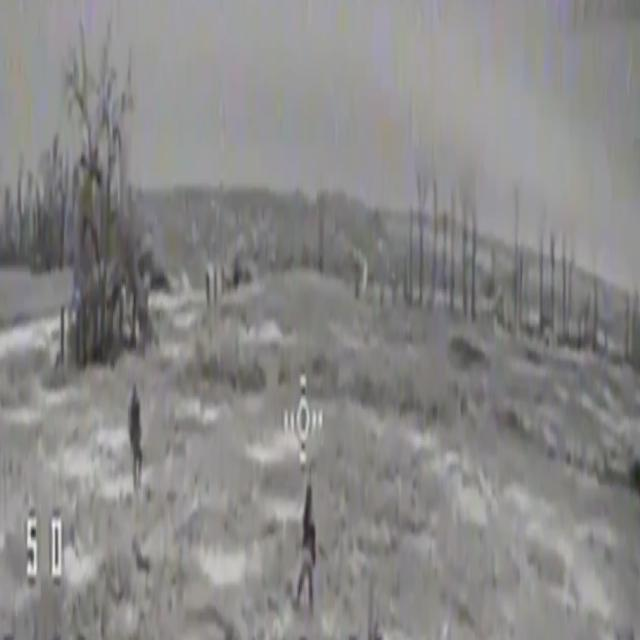infantry: (298, 482, 316, 610), (128, 378, 144, 487)
